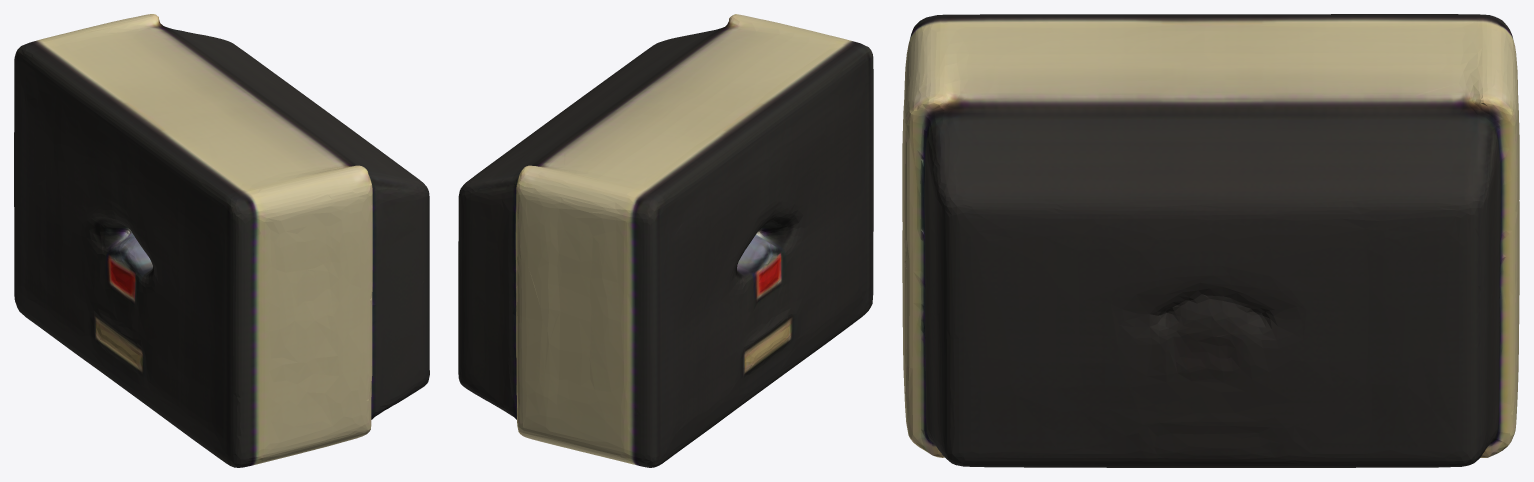
3 views of the same model, side by side, from view 1: azimuth 30°, elevation 25°; view 2: azimuth 150°, elevation 25°; view 3: azimuth 270°, elevation 25° (orthographic). The views are drawn at different scales.
Parts seen in each view (by area): view 1: Mesh_0.002; view 2: Mesh_0.002; view 3: Mesh_0.002.
Part boxes in pixels (x1=…): Mesh_0.002: x1=14, y1=14, x2=429, y2=467; Mesh_0.002: x1=458, y1=14, x2=873, y2=467; Mesh_0.002: x1=902, y1=14, x2=1519, y2=467.
Size of the model in its own units: 3.56 by 4.17 by 6.42.
1 material, 1 textured.
